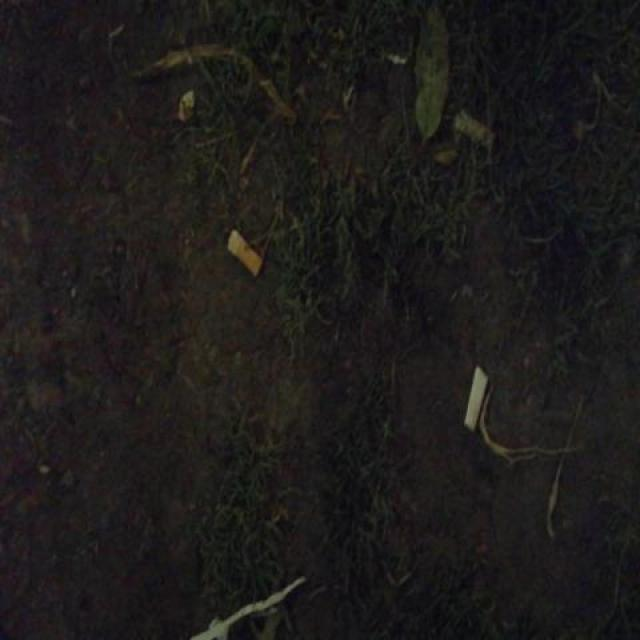non-organic waste: (449, 105, 503, 158), (459, 363, 493, 436), (222, 227, 265, 284)
